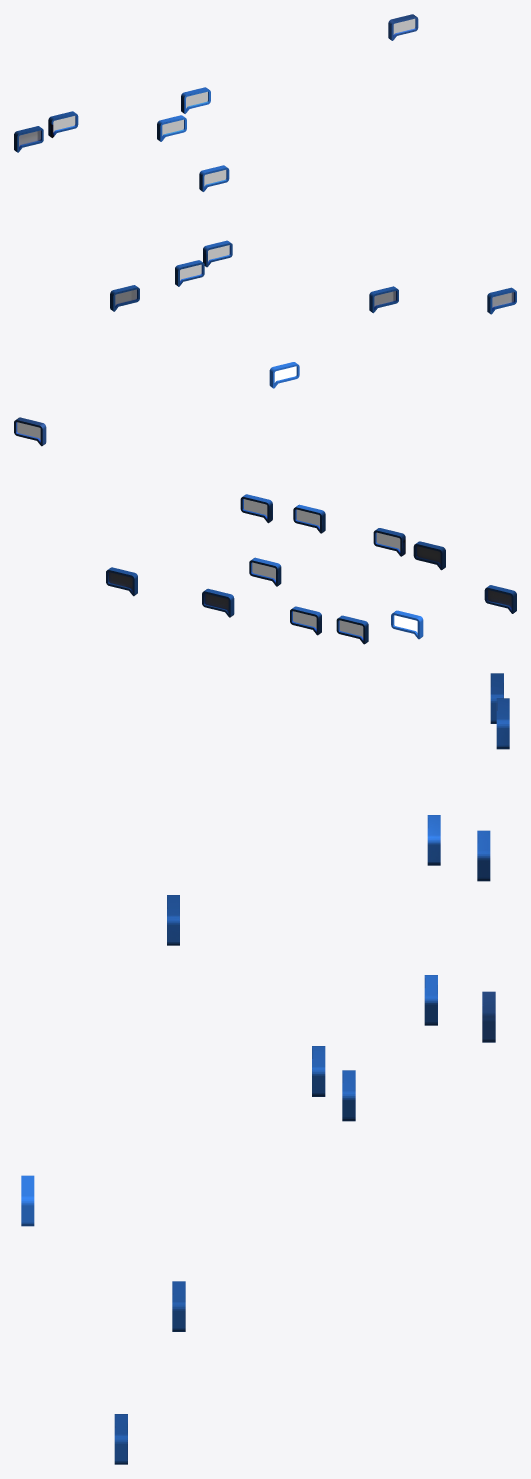
File: pop_up_art.glb
3 views of the same model, one above another, from view 1: azimuth 30°, elevation 25°; view 2: azimuth 150°, elevation 25°; view 3: azimuth 270°, elevation 25° (orthographic). The views are drawn at different scales.
Visible parts, largest first — view 1: pop_up_running, pop_up_development, pop_up_photography_left, pop_up_languages, pop_up_social_networks, pop_up_share_knowledge, pop_up_photography_right, pop_up_art, pop_up_games, pop_up_travel, pop_up_stereoscopy, pop_up_contact_me; view 2: pop_up_share_knowledge, pop_up_travel, pop_up_running, pop_up_social_networks, pop_up_languages, pop_up_contact_me, pop_up_development, pop_up_games, pop_up_photography_left, pop_up_art, pop_up_photography_right, pop_up_stereoscopy; view 3: no part large enough to name.
Part boxes in pixels (left/top/right/bottom): pop_up_running: left=269, top=362, right=299, bottom=388; pop_up_development: left=199, top=165, right=229, bottom=191; pop_up_photography_left: left=48, top=111, right=78, bottom=137; pop_up_languages: left=388, top=14, right=418, bottom=40; pop_up_social_networks: left=157, top=115, right=186, bottom=141; pop_up_share_knowledge: left=369, top=286, right=398, bottom=313; pop_up_photography_right: left=487, top=287, right=516, bottom=314; pop_up_art: left=14, top=126, right=43, bottom=152; pop_up_games: left=110, top=285, right=139, bottom=311; pop_up_travel: left=181, top=87, right=210, bottom=113; pop_up_stereoscopy: left=203, top=240, right=232, bottom=267; pop_up_contact_me: left=175, top=260, right=204, bottom=286; pop_up_share_knowledge: left=202, top=588, right=234, bottom=617; pop_up_travel: left=240, top=494, right=272, bottom=523; pop_up_running: left=391, top=610, right=423, bottom=639; pop_up_social_networks: left=293, top=504, right=325, bottom=533; pop_up_languages: left=14, top=417, right=46, bottom=446; pop_up_contact_me: left=336, top=615, right=368, bottom=644; pop_up_development: left=249, top=557, right=281, bottom=586; pop_up_games: left=484, top=585, right=516, bottom=613; pop_up_photography_left: left=373, top=528, right=405, bottom=556; pop_up_art: left=413, top=541, right=445, bottom=570; pop_up_photography_right: left=106, top=567, right=137, bottom=596; pop_up_stereoscopy: left=290, top=606, right=321, bottom=635.
Bounding box in the file's own units: 34.1 × 18.2 × 17.78.
Materials: 12 (12 with a texture image).
